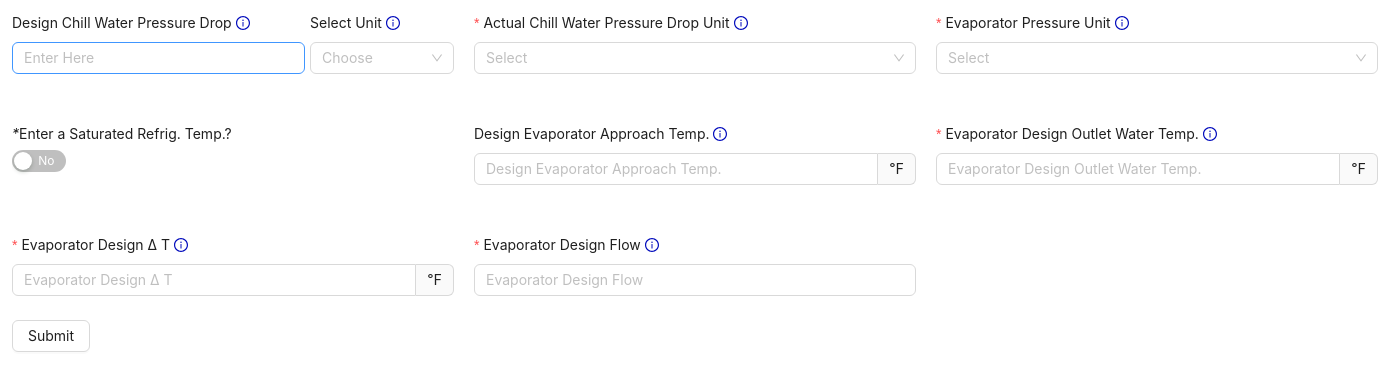
Scenario: EvaporatorForm › shows error for invalid inputs
Type "-." into the field with placeholder "Evaporator Design Outlet Water Temp." at (1138, 169), box [936, 153, 1340, 185]
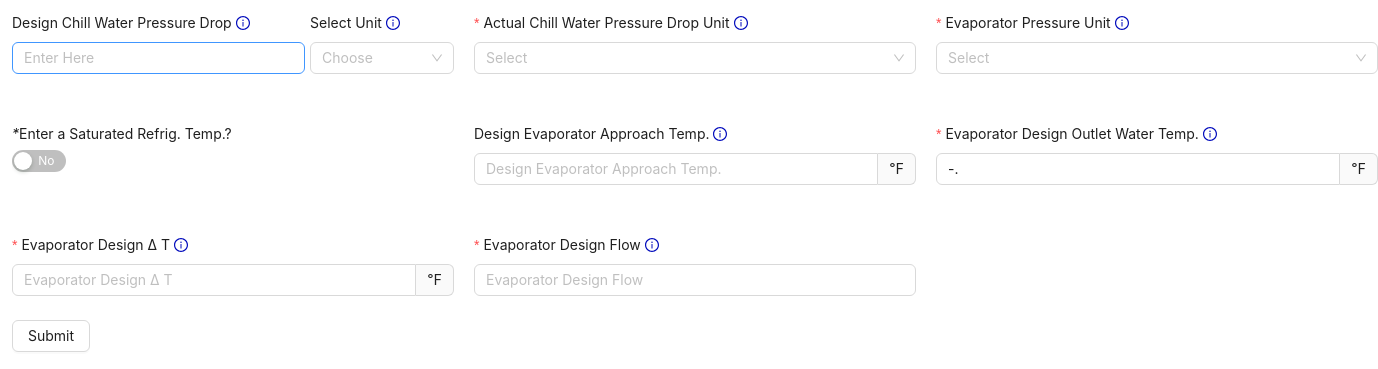
Click the button "Submit" at (51, 336), box [12, 320, 90, 352]
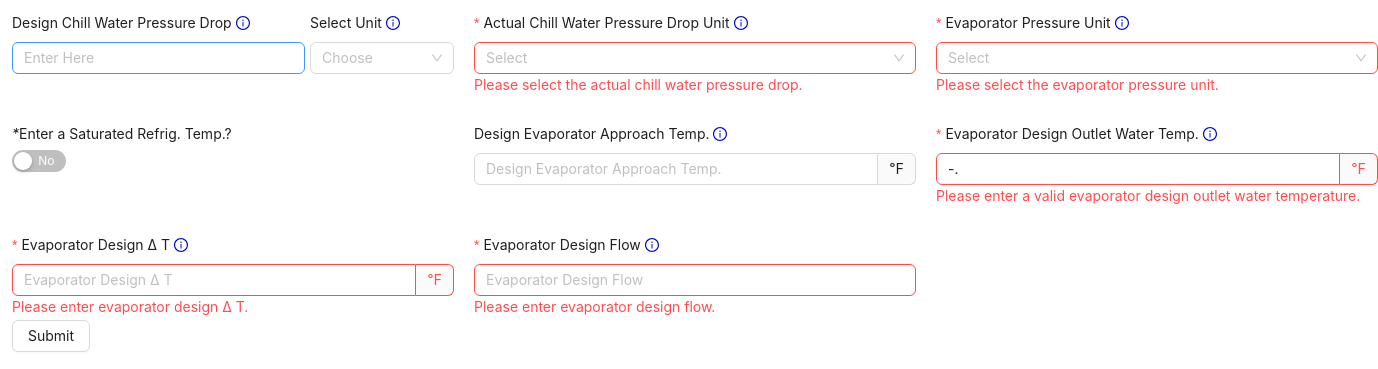
Now the text "Please enter a valid evaporator design outlet water temperature." is shown, box [936, 185, 1377, 207]
